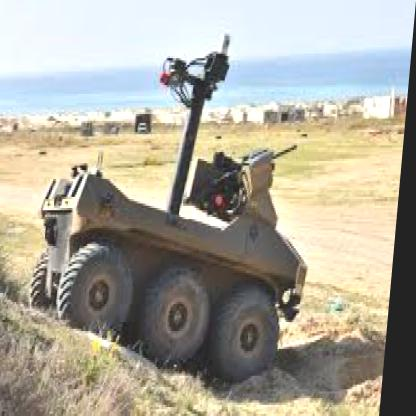UGV: (29, 52, 327, 381)
